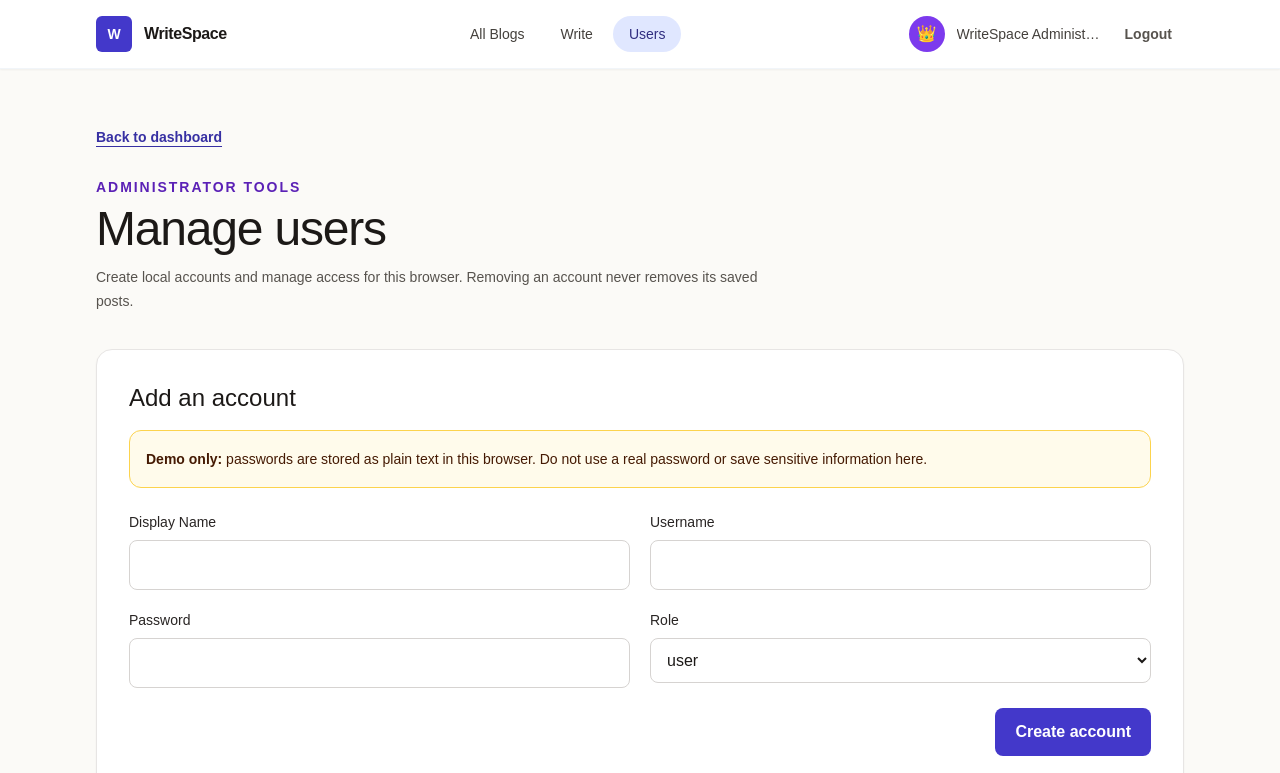
Test: administrator pages › creates a unique admin account and reports the result visibly
Type "Taylor Admin" into the field labelled "Display Name" at (380, 565), box [129,540,630,590]
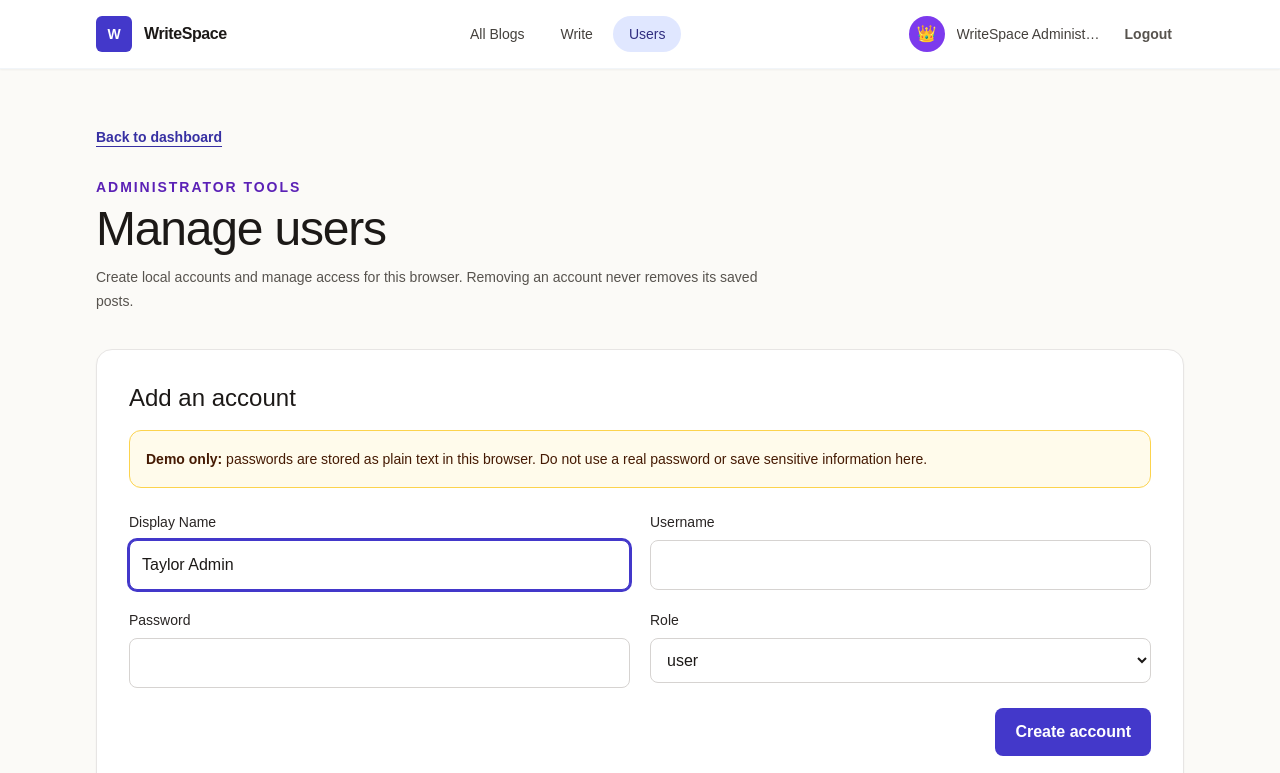
Type "taylor" into the field labelled "Username" at (900, 565), box [650,540,1151,590]
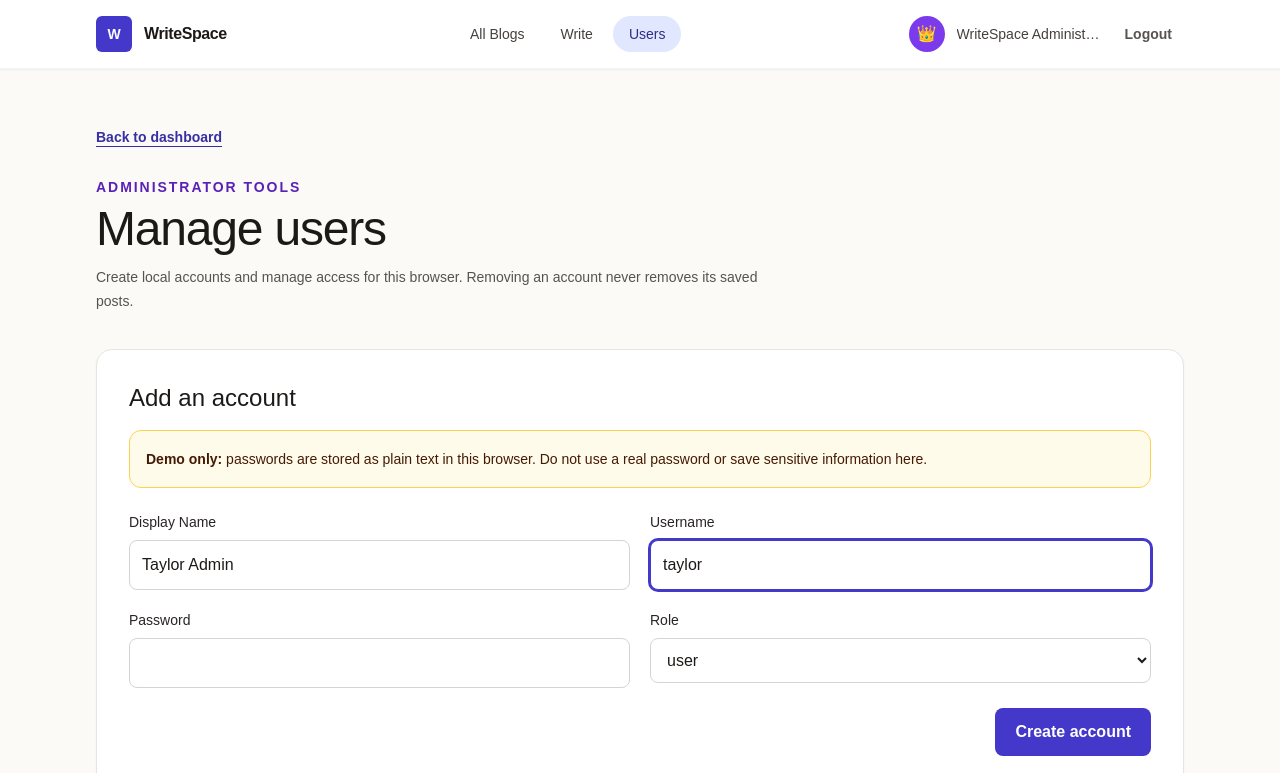
Type "plain-demo" into the password field labelled "Password" at (380, 663), box [129,638,630,688]
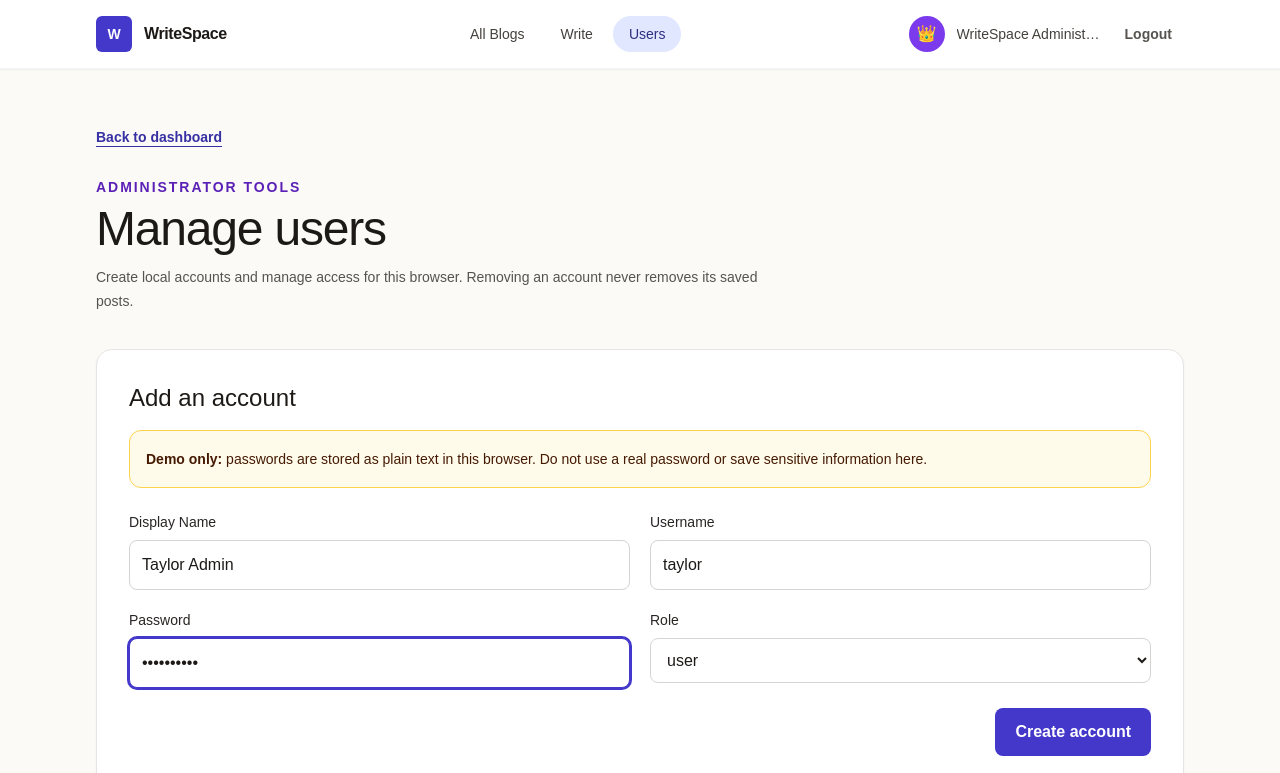
Select "Admin" in the dropdown labelled "Role" at (900, 660), box [650,638,1151,683]
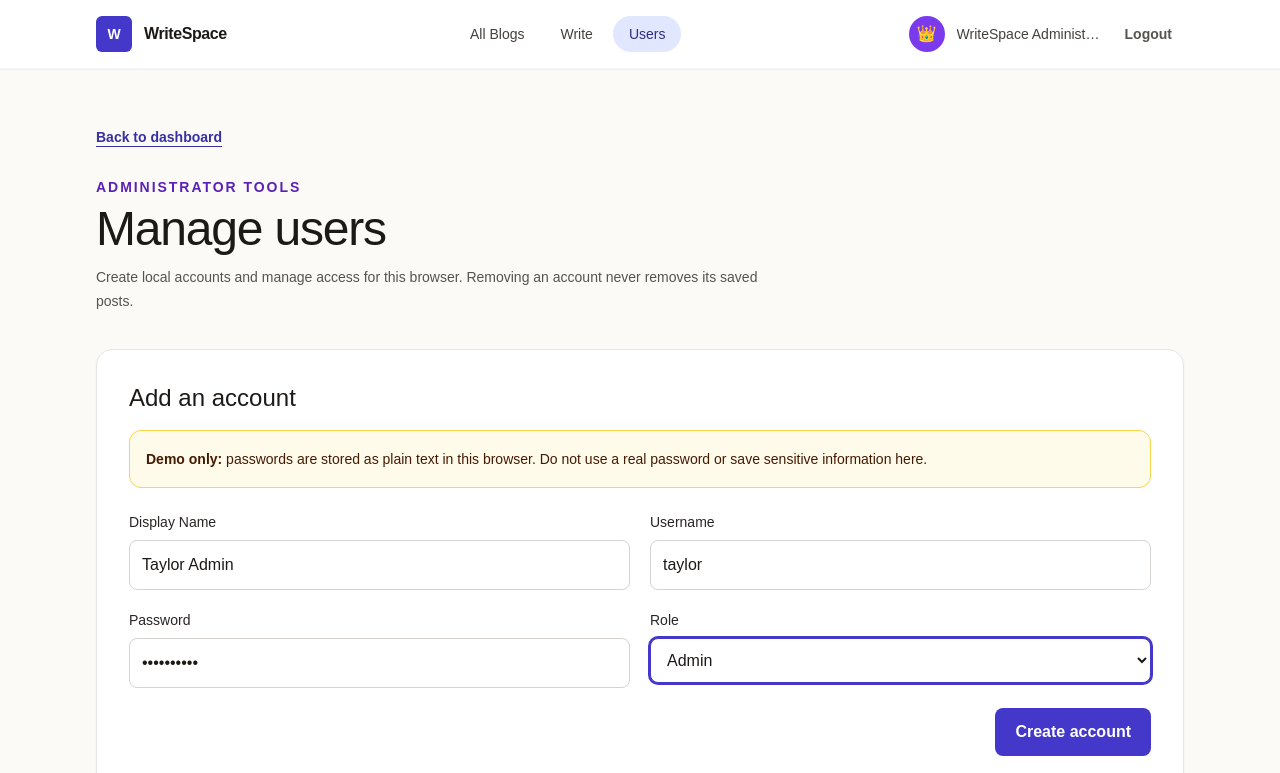
Click the button "Create account" at (1073, 732), box [995,708,1151,756]
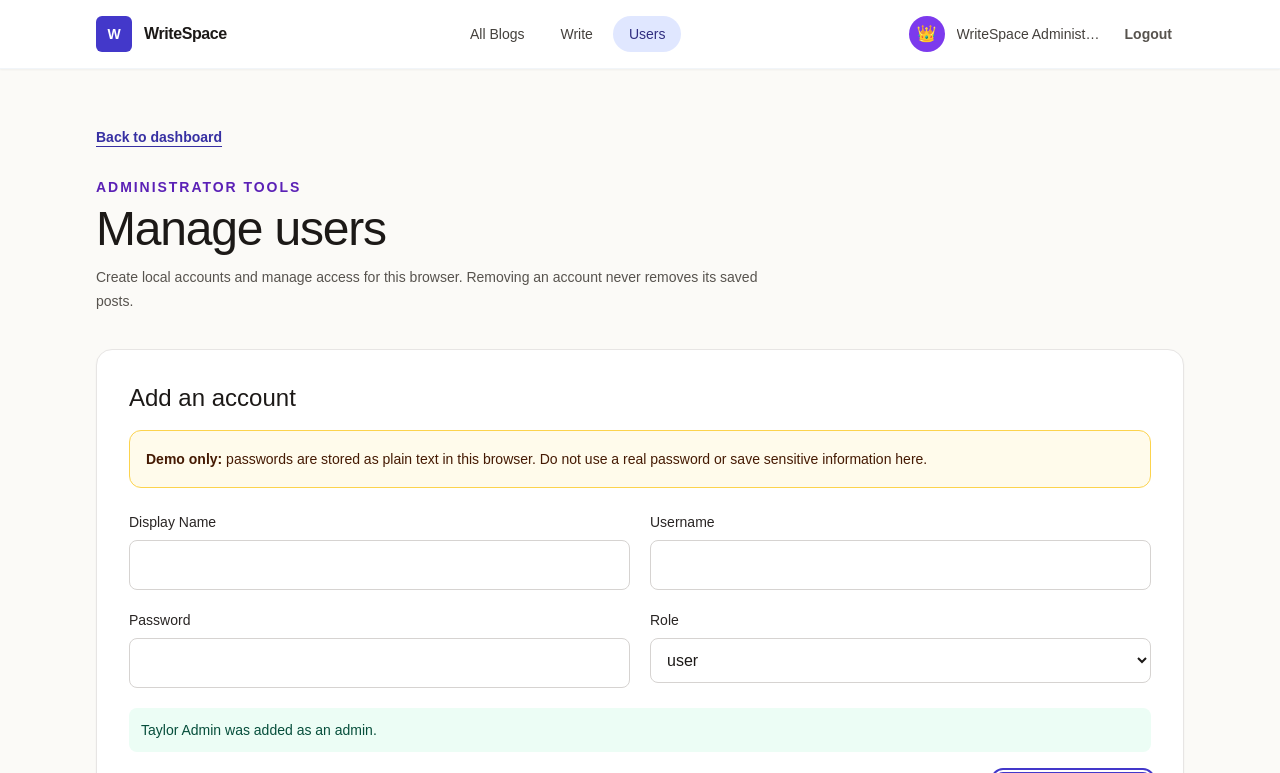
Check: the message reads "Taylor Admin was added as an admin.", box [141,722,377,738]
